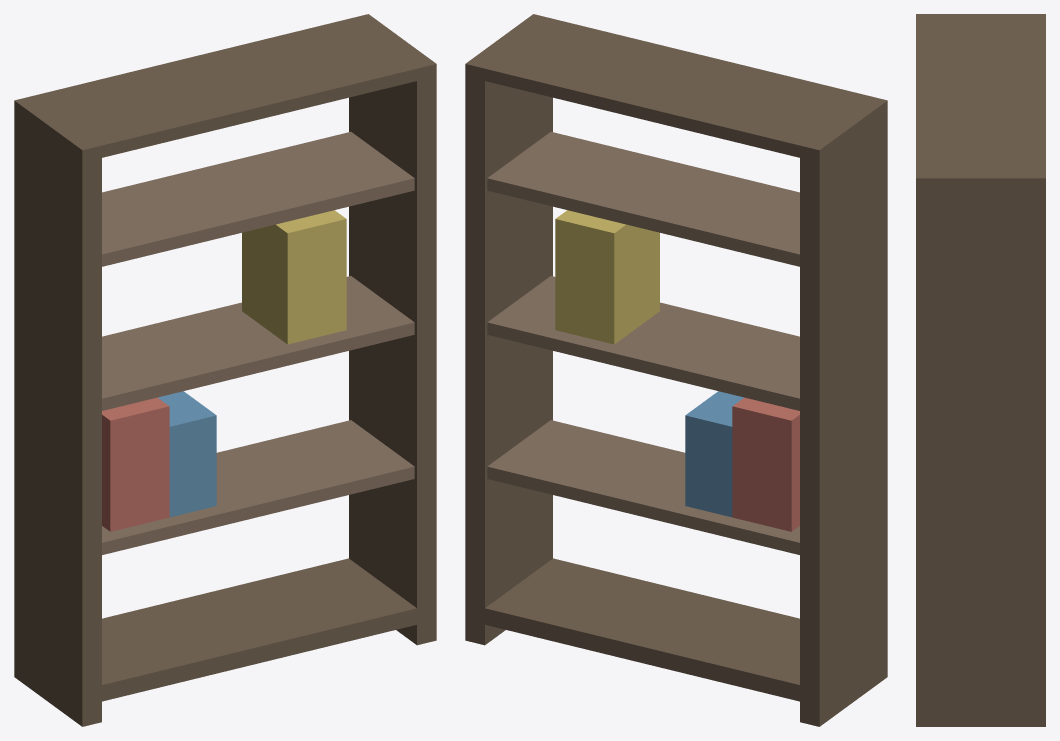
The model's file is bookshelf_modern.glb.
3 renders of one model, left to right at view 1: azimuth 30°, elevation 25°; view 2: azimuth 150°, elevation 25°; view 3: azimuth 270°, elevation 25°, orthographic. The views are drawn at different scales.
Size of the model in its own units: 0.9 by 1.4 by 0.3.
